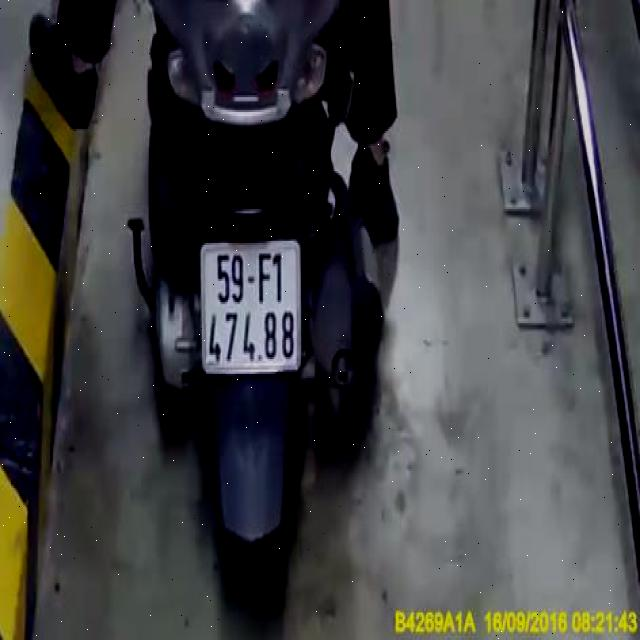1: (275, 248, 287, 302)
4: (205, 309, 223, 367), (240, 313, 255, 364)
5: (213, 251, 231, 309)
7: (225, 311, 242, 370)
8: (261, 313, 279, 365), (279, 313, 298, 359)
9: (232, 252, 247, 310)
F: (254, 251, 273, 302)
